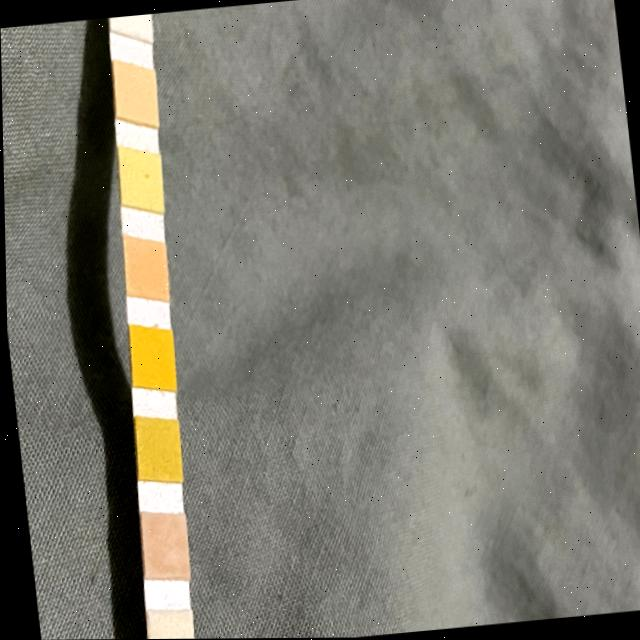Bilirubin: (145, 609, 189, 639)
Blood: (128, 332, 175, 382)
Ketone: (139, 515, 187, 575)
Nitrite: (112, 13, 151, 28)
Protein: (118, 155, 163, 202)
SpGravity: (134, 420, 178, 475)
Urobilinogen: (113, 72, 159, 119)
pH: (125, 245, 168, 293)
